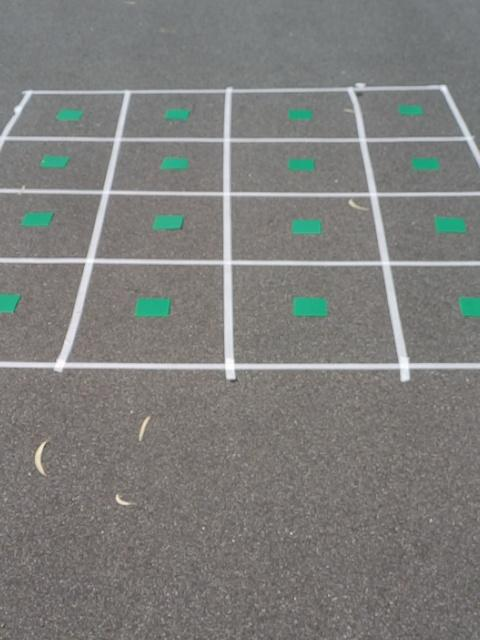weed: (290, 295, 331, 319), (135, 296, 172, 318), (433, 214, 469, 235), (289, 217, 324, 237), (152, 214, 185, 232), (457, 295, 480, 318), (410, 156, 442, 172), (41, 155, 71, 169), (22, 213, 54, 226), (0, 294, 21, 313), (161, 157, 189, 171), (164, 108, 190, 121), (285, 159, 318, 169), (57, 109, 84, 121), (286, 108, 313, 120), (397, 103, 422, 115)
